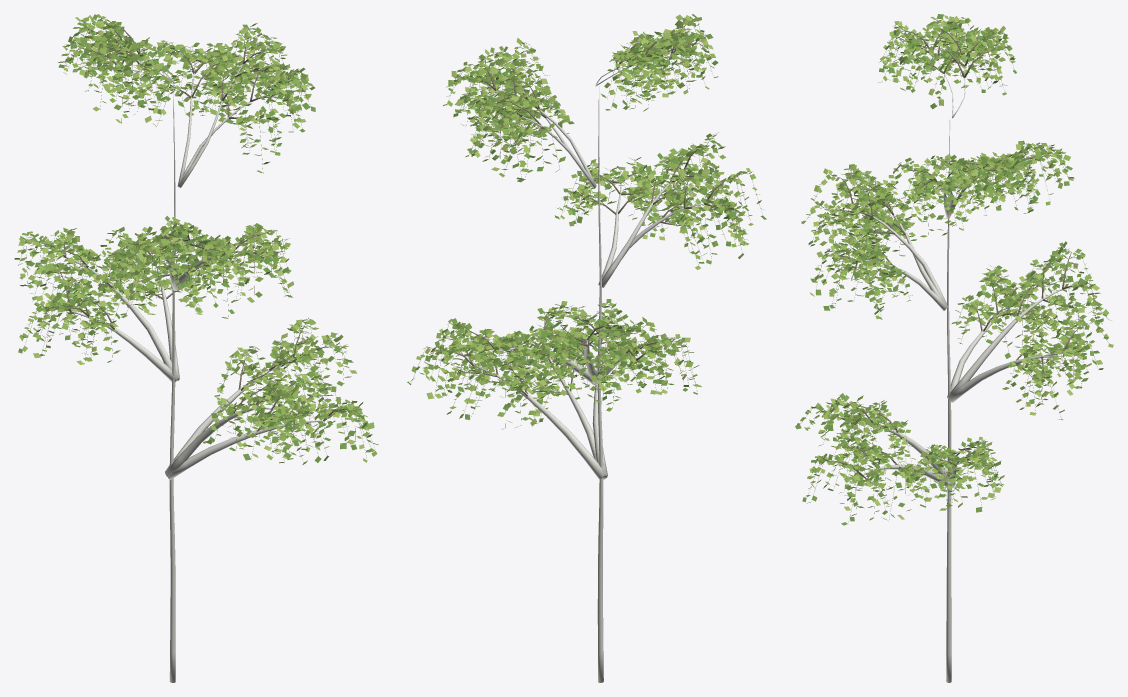
The model's file is birch_1034_L0.glb.
3 views of the same model, side by side, from view 1: azimuth 30°, elevation 25°; view 2: azimuth 150°, elevation 25°; view 3: azimuth 270°, elevation 25° (orthographic). The views are drawn at different scales.
Visible parts, largest first — view 1: birch_part3, birch_part1, birch_part2, birch_part0, birch_trunk, birch_part94, birch_part99, birch_part95, birch_part90, birch_part89; view 2: birch_part2, birch_part1, birch_part3, birch_part0, birch_trunk, birch_part89, birch_part96; view 3: birch_part3, birch_part2, birch_part1, birch_part0, birch_trunk, birch_part95, birch_part100.
Boxes of the visible parts, box(x1,y1,x2,y2) form: birch_part3: box(17, 15, 372, 464); birch_part1: box(18, 14, 378, 462); birch_part2: box(14, 14, 377, 463); birch_part0: box(18, 17, 372, 460); birch_trunk: box(169, 84, 175, 682); birch_part94: box(166, 420, 322, 479); birch_part99: box(165, 407, 271, 478); birch_part95: box(66, 257, 177, 374); birch_part90: box(71, 311, 177, 382); birch_part89: box(165, 360, 290, 471); birch_part2: box(411, 16, 761, 424); birch_part1: box(407, 14, 766, 429); birch_part3: box(410, 14, 762, 427); birch_part0: box(413, 17, 760, 427); birch_trunk: box(597, 86, 603, 682); birch_part89: box(473, 365, 605, 479); birch_part96: box(599, 175, 678, 287); birch_part3: box(800, 15, 1113, 520); birch_part2: box(795, 18, 1108, 525); birch_part1: box(795, 14, 1107, 521); birch_part0: box(807, 18, 1108, 521); birch_trunk: box(946, 117, 951, 682); birch_part95: box(949, 289, 1062, 396); birch_part100: box(948, 355, 1062, 402).
Size of the model in its own units: 4.09 by 8.5 by 3.9.
Materials: 5 (5 with a texture image).
